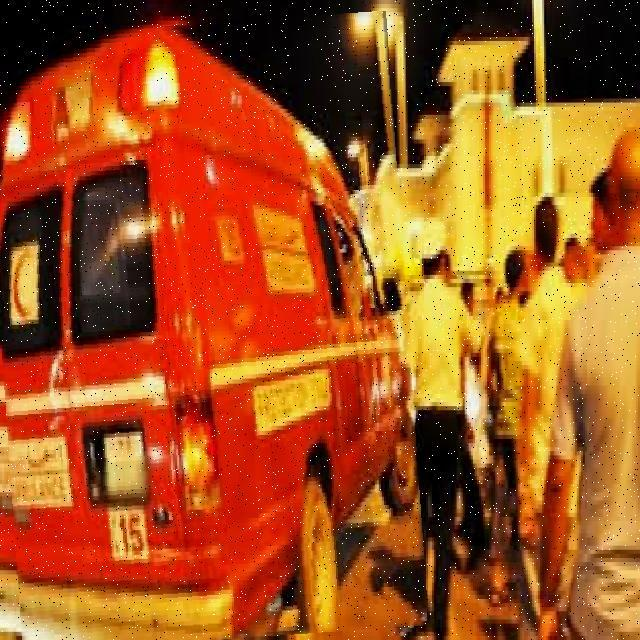ambulance: (0, 17, 417, 640)
